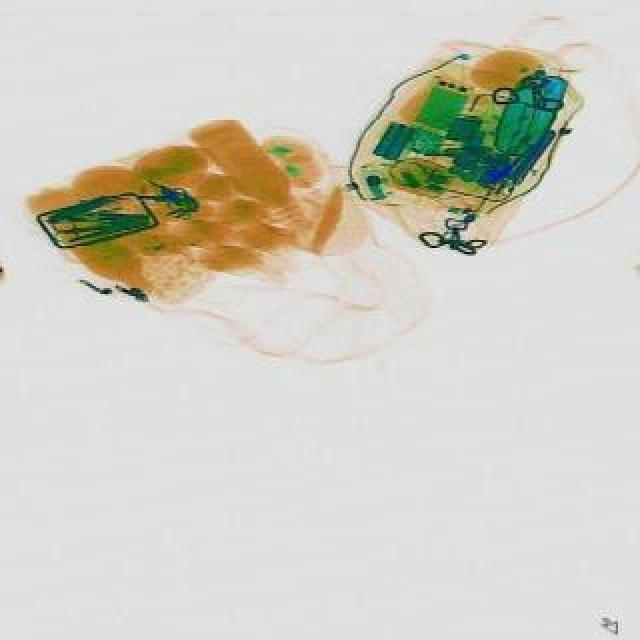pliers: (54, 214, 114, 246)
